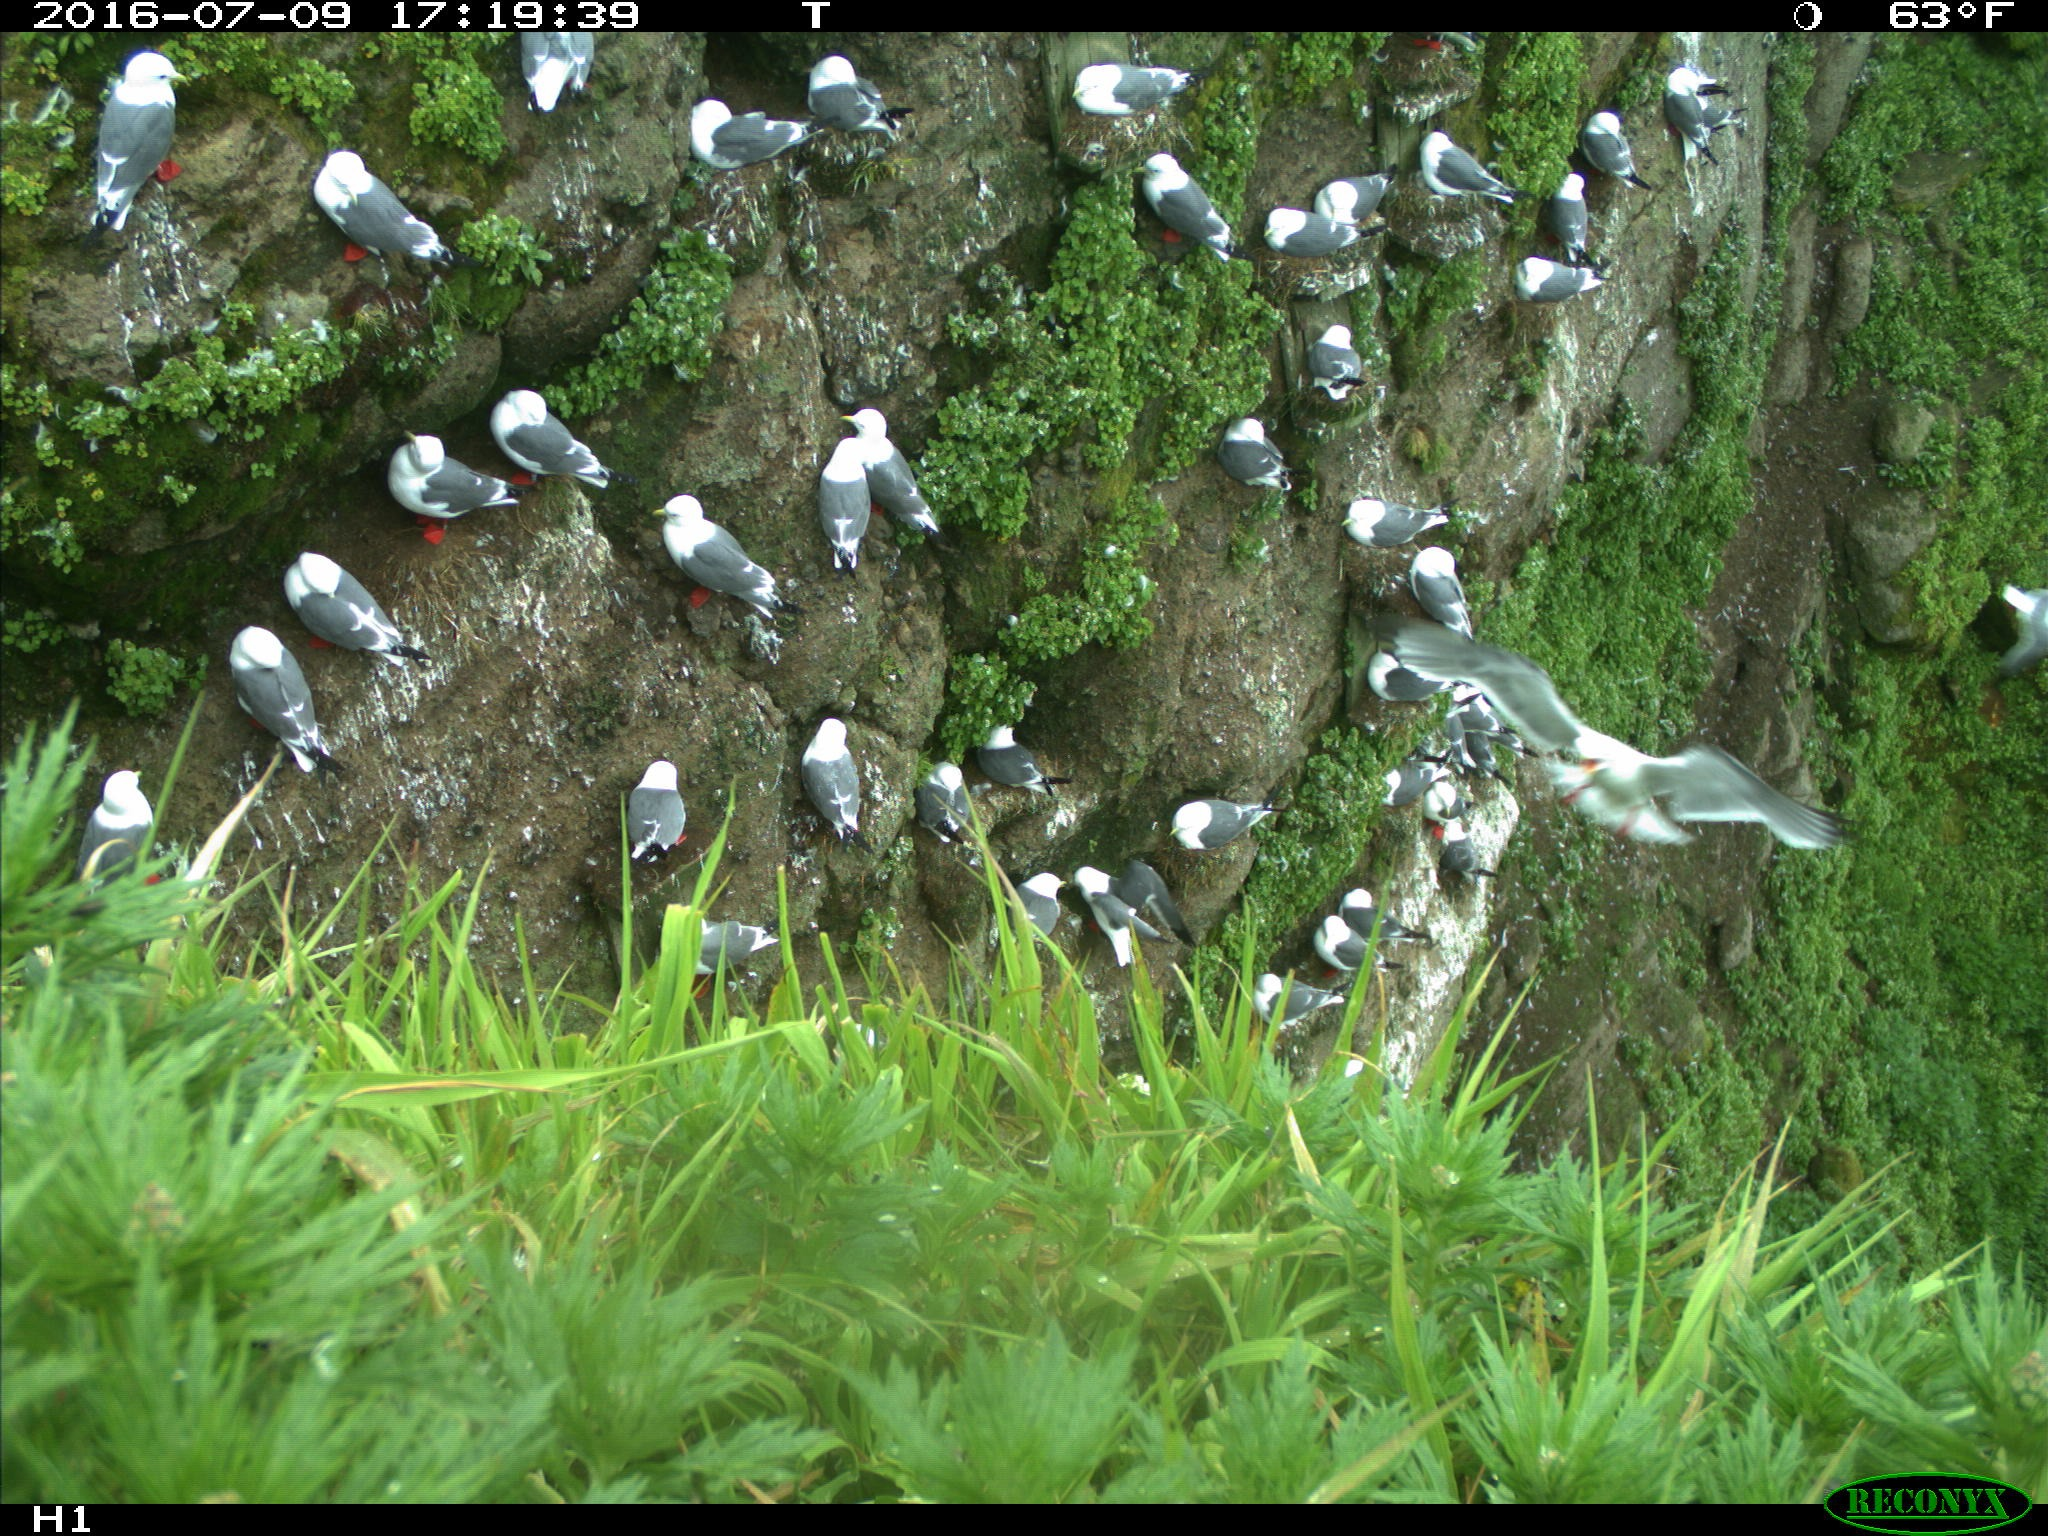Kittiwake: (269, 124, 443, 337), (71, 52, 218, 261), (268, 537, 466, 692), (345, 434, 519, 591), (210, 600, 368, 771), (658, 478, 830, 626), (476, 366, 637, 516), (590, 755, 792, 855), (643, 86, 835, 190), (776, 679, 884, 858), (58, 739, 187, 887), (1039, 47, 1232, 136), (1187, 390, 1324, 513), (1118, 145, 1245, 274), (1158, 774, 1297, 886), (851, 394, 951, 545), (797, 39, 913, 158), (1284, 313, 1409, 419), (1634, 56, 1738, 182), (1232, 942, 1334, 1068), (964, 697, 1079, 808), (795, 436, 895, 558), (1329, 466, 1437, 579), (1313, 865, 1426, 970), (677, 887, 789, 992), (1401, 110, 1505, 223), (1530, 158, 1621, 287), (1295, 150, 1405, 253), (908, 733, 992, 865), (1255, 177, 1355, 287), (1372, 553, 1484, 649), (1551, 86, 1642, 202), (1063, 878, 1130, 1028), (992, 855, 1071, 979), (1347, 628, 1451, 721), (502, 27, 610, 118), (1496, 244, 1621, 321), (1293, 900, 1384, 1004), (1409, 516, 1508, 607), (1400, 779, 1485, 876), (1376, 983, 1458, 1075), (1426, 671, 1534, 737)
